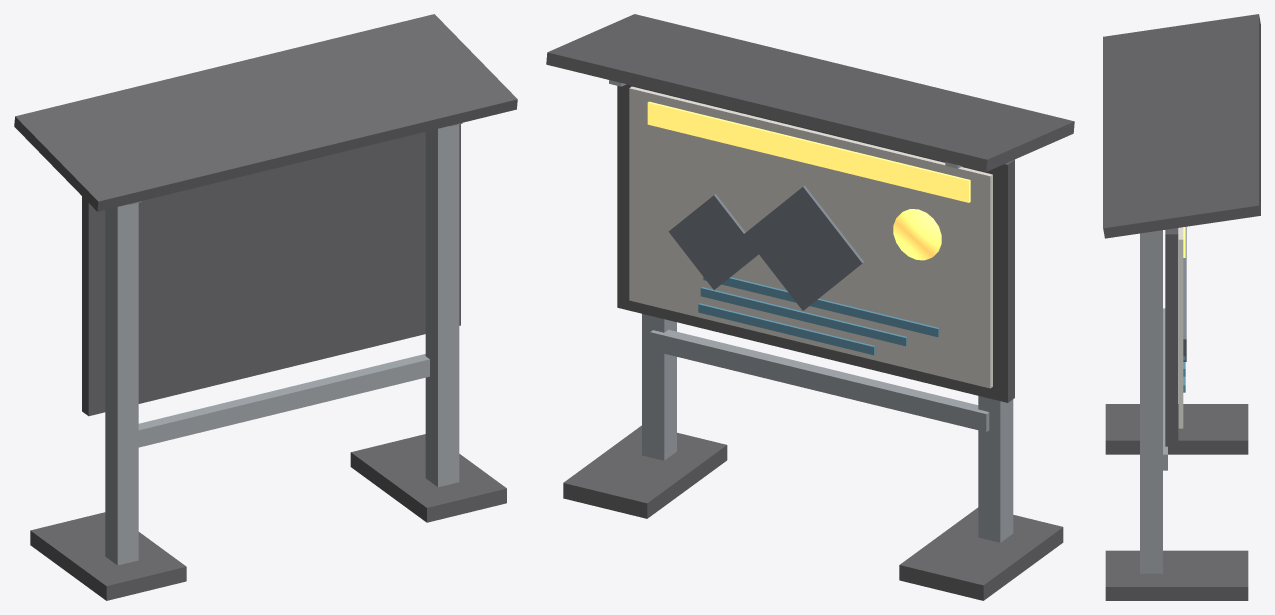
File: vista_sign.glb
3 renders of one model, left to right at view 1: azimuth 30°, elevation 25°; view 2: azimuth 150°, elevation 25°; view 3: azimuth 270°, elevation 25°, orthographic. The views are drawn at different scales.
Visible parts, largest first — view 1: Merged_RoofDark, Merged_PropsMetal; view 2: Merged_RoofDark, vista_sign_face, Merged_PropsMetal, Merged_VistaSlate0326, Merged_VistaAccent0326, Merged_VistaSea0326; view 3: Merged_RoofDark, Merged_PropsMetal, vista_sign_face, Merged_VistaSlate0326.
Boxes of the visible parts, x1,y1,x2,y2 form: Merged_RoofDark: (14,14,517,600); Merged_PropsMetal: (105,123,462,565); Merged_RoofDark: (546,14,1074,600); vista_sign_face: (629,86,992,388); Merged_PropsMetal: (609,80,1013,542); Merged_VistaSlate0326: (668,185,863,310); Merged_VistaAccent0326: (647,101,970,260); Merged_VistaSea0326: (698,277,939,355); Merged_RoofDark: (1103,14,1260,600); Merged_PropsMetal: (1140,230,1167,573); vista_sign_face: (1178,227,1183,428); Merged_VistaSlate0326: (1183,226,1186,361).
Size of the model in its own units: 1.78 by 1.73 by 0.6193.
